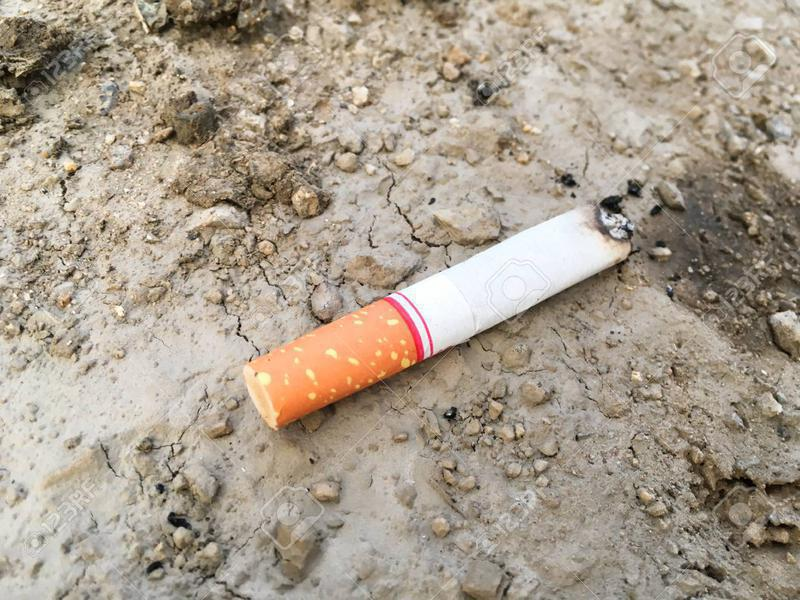burned_cigarette: (236, 194, 639, 435)
